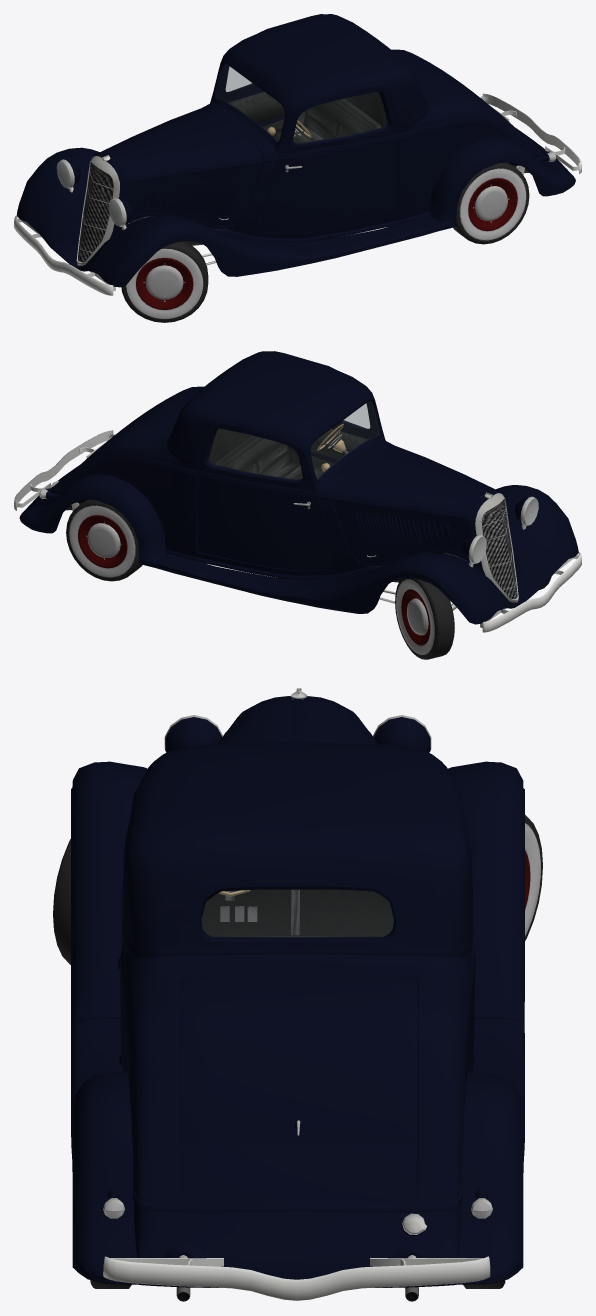
3 views of the same model, one above another, from view 1: azimuth 30°, elevation 25°; view 2: azimuth 150°, elevation 25°; view 3: azimuth 270°, elevation 25° (orthographic). The views are drawn at different scales.
Visible parts, largest first — view 1: body_fordcoupe_body_0, door_left_fordcoupe_body_0, hood_fordcoupe_body_0, fender_front_fordcoupe_body_0, fender_rear_fordcoupe_body_0, door_left_fordcoupe_glass_0, interior_fordcoupe_interior_0, wheel_01_tire_0, sideskirts_fordcoupe_body_0, wheel_02_tire_0, glass_fordcoupe_glass_0, wheel_01_rim_0 (+8 smaller); view 2: body_fordcoupe_body_0, door_right_fordcoupe_body_0, hood_fordcoupe_body_0, fender_front_fordcoupe_body_0, fender_rear_fordcoupe_body_0, door_right_fordcoupe_glass_0, interior_fordcoupe_interior_0, wheel_04_tire_0, sideskirts_fordcoupe_body_0, wheel_03_tire_0, glass_fordcoupe_glass_0, grill_fordcoupe_grill_0 (+9 smaller); view 3: body_fordcoupe_body_0, fender_front_fordcoupe_body_0, fender_rear_fordcoupe_body_0, bumper_rear_fordcoupe_chrome_0, glass_fordcoupe_glass_0, interior_fordcoupe_interior_0, sideskirts_fordcoupe_body_0, hood_fordcoupe_body_0, Object001_fordcoupe_body_0, wheel_01_tire_0, wheel_04_tire_0, interior_fordcoupe_bottom_0.
Part boxes in pixels (x1=…): body_fordcoupe_body_0: x1=109, y1=14, x2=567, y2=242; door_left_fordcoupe_body_0: x1=263, y1=86, x2=399, y2=233; hood_fordcoupe_body_0: x1=98, y1=108, x2=263, y2=230; fender_front_fordcoupe_body_0: x1=17, y1=147, x2=305, y2=287; fender_rear_fordcoupe_body_0: x1=426, y1=137, x2=575, y2=230; door_left_fordcoupe_glass_0: x1=293, y1=92, x2=387, y2=143; interior_fordcoupe_interior_0: x1=217, y1=92, x2=386, y2=142; wheel_01_tire_0: x1=121, y1=241, x2=208, y2=322; sideskirts_fordcoupe_body_0: x1=287, y1=217, x2=438, y2=264; wheel_02_tire_0: x1=453, y1=162, x2=529, y2=244; glass_fordcoupe_glass_0: x1=216, y1=64, x2=284, y2=141; wheel_01_rim_0: x1=136, y1=257, x2=193, y2=309; body_fordcoupe_body_0: x1=28, y1=351, x2=485, y2=579; door_right_fordcoupe_body_0: x1=196, y1=423, x2=332, y2=570; hood_fordcoupe_body_0: x1=332, y1=445, x2=496, y2=568; fender_front_fordcoupe_body_0: x1=289, y1=485, x2=578, y2=624; fender_rear_fordcoupe_body_0: x1=19, y1=474, x2=168, y2=567; door_right_fordcoupe_glass_0: x1=208, y1=429, x2=302, y2=479; interior_fordcoupe_interior_0: x1=209, y1=428, x2=377, y2=479; wheel_04_tire_0: x1=395, y1=578, x2=454, y2=659; sideskirts_fordcoupe_body_0: x1=156, y1=554, x2=308, y2=601; wheel_03_tire_0: x1=66, y1=499, x2=142, y2=581; glass_fordcoupe_glass_0: x1=311, y1=401, x2=378, y2=478; grill_fordcoupe_grill_0: x1=481, y1=499, x2=517, y2=599; body_fordcoupe_body_0: x1=119, y1=699, x2=475, y2=1287; fender_front_fordcoupe_body_0: x1=71, y1=761, x2=524, y2=1032; fender_rear_fordcoupe_body_0: x1=72, y1=1072, x2=523, y2=1284; bumper_rear_fordcoupe_chrome_0: x1=103, y1=1256, x2=490, y2=1300; glass_fordcoupe_glass_0: x1=202, y1=890, x2=393, y2=936; interior_fordcoupe_interior_0: x1=201, y1=889, x2=393, y2=936; sideskirts_fordcoupe_body_0: x1=71, y1=1018, x2=524, y2=1161; hood_fordcoupe_body_0: x1=217, y1=700, x2=378, y2=744; Object001_fordcoupe_body_0: x1=165, y1=717, x2=430, y2=752; wheel_01_tire_0: x1=53, y1=839, x2=70, y2=964; wheel_04_tire_0: x1=525, y1=815, x2=542, y2=940; interior_fordcoupe_bottom_0: x1=218, y1=889, x2=299, y2=935.
Bounding box in the file's own units: 177 × 65.11 × 76.06.
